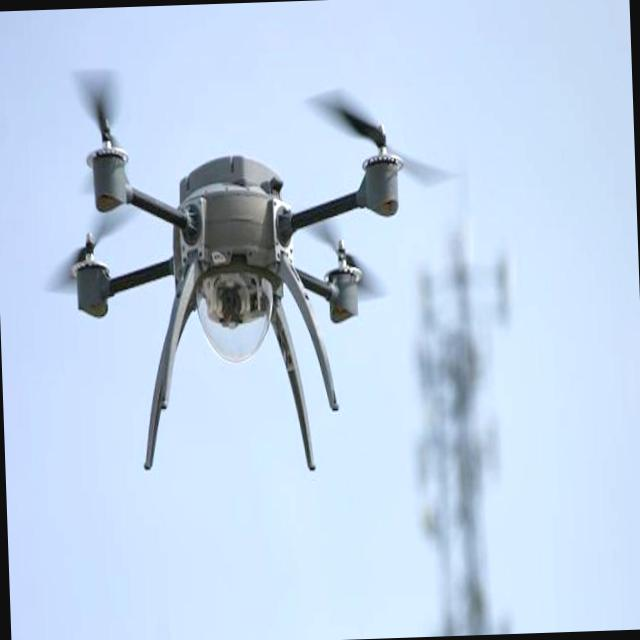drone: (64, 84, 413, 480)
